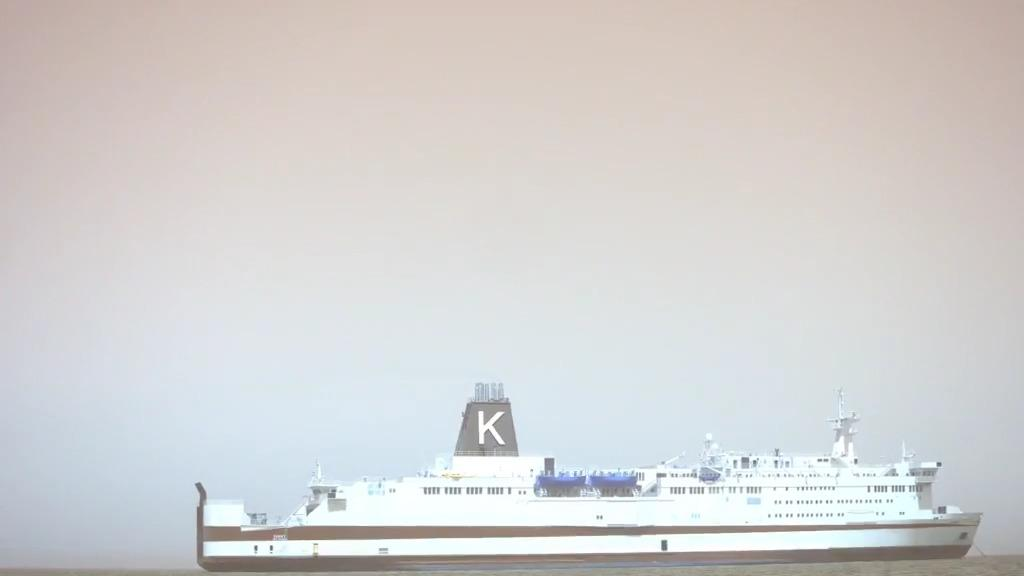PassengerShip: (192, 380, 984, 576)
